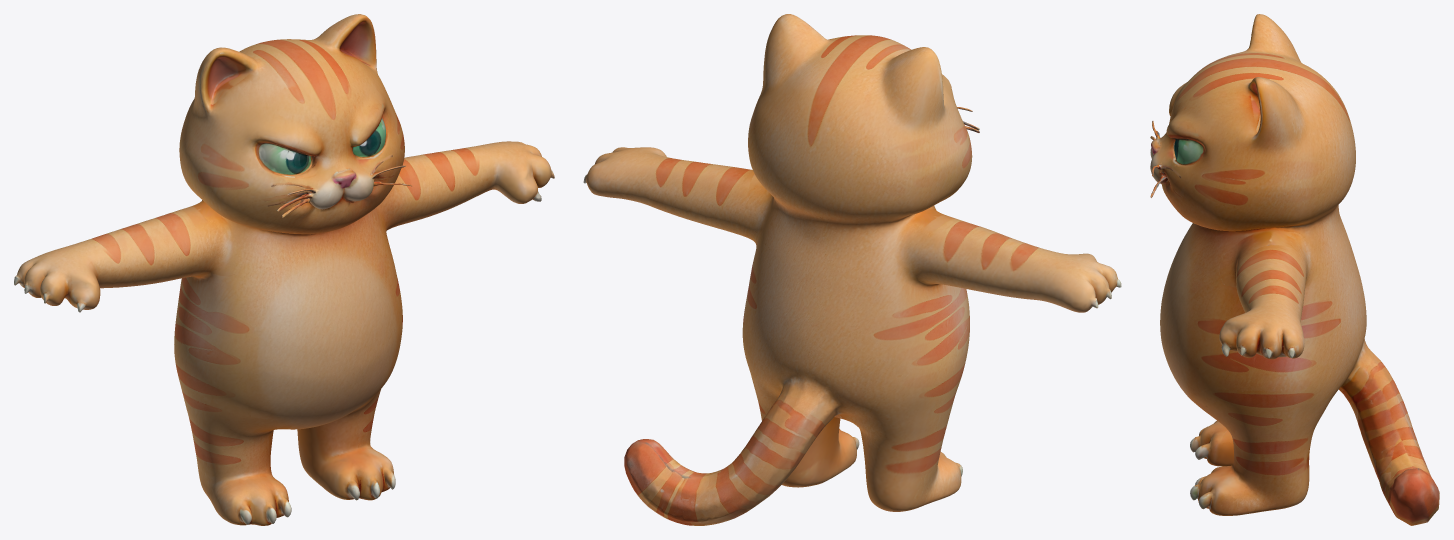
Rendered from cat_raw.glb.
3 views of the same model, side by side, from view 1: azimuth 30°, elevation 25°; view 2: azimuth 150°, elevation 25°; view 3: azimuth 270°, elevation 25° (orthographic). The views are drawn at different scales.
Parts seen in each view (by area): view 1: texture_mapping; view 2: texture_mapping; view 3: texture_mapping.
Part boxes in pixels (x1,y1,x2,y2): texture_mapping: [14, 14, 554, 525]; texture_mapping: [583, 14, 1121, 525]; texture_mapping: [1150, 14, 1439, 525].
Size of the model in its own units: 1 by 0.8416 by 0.5091.
Materials: 1 (1 with a texture image).
